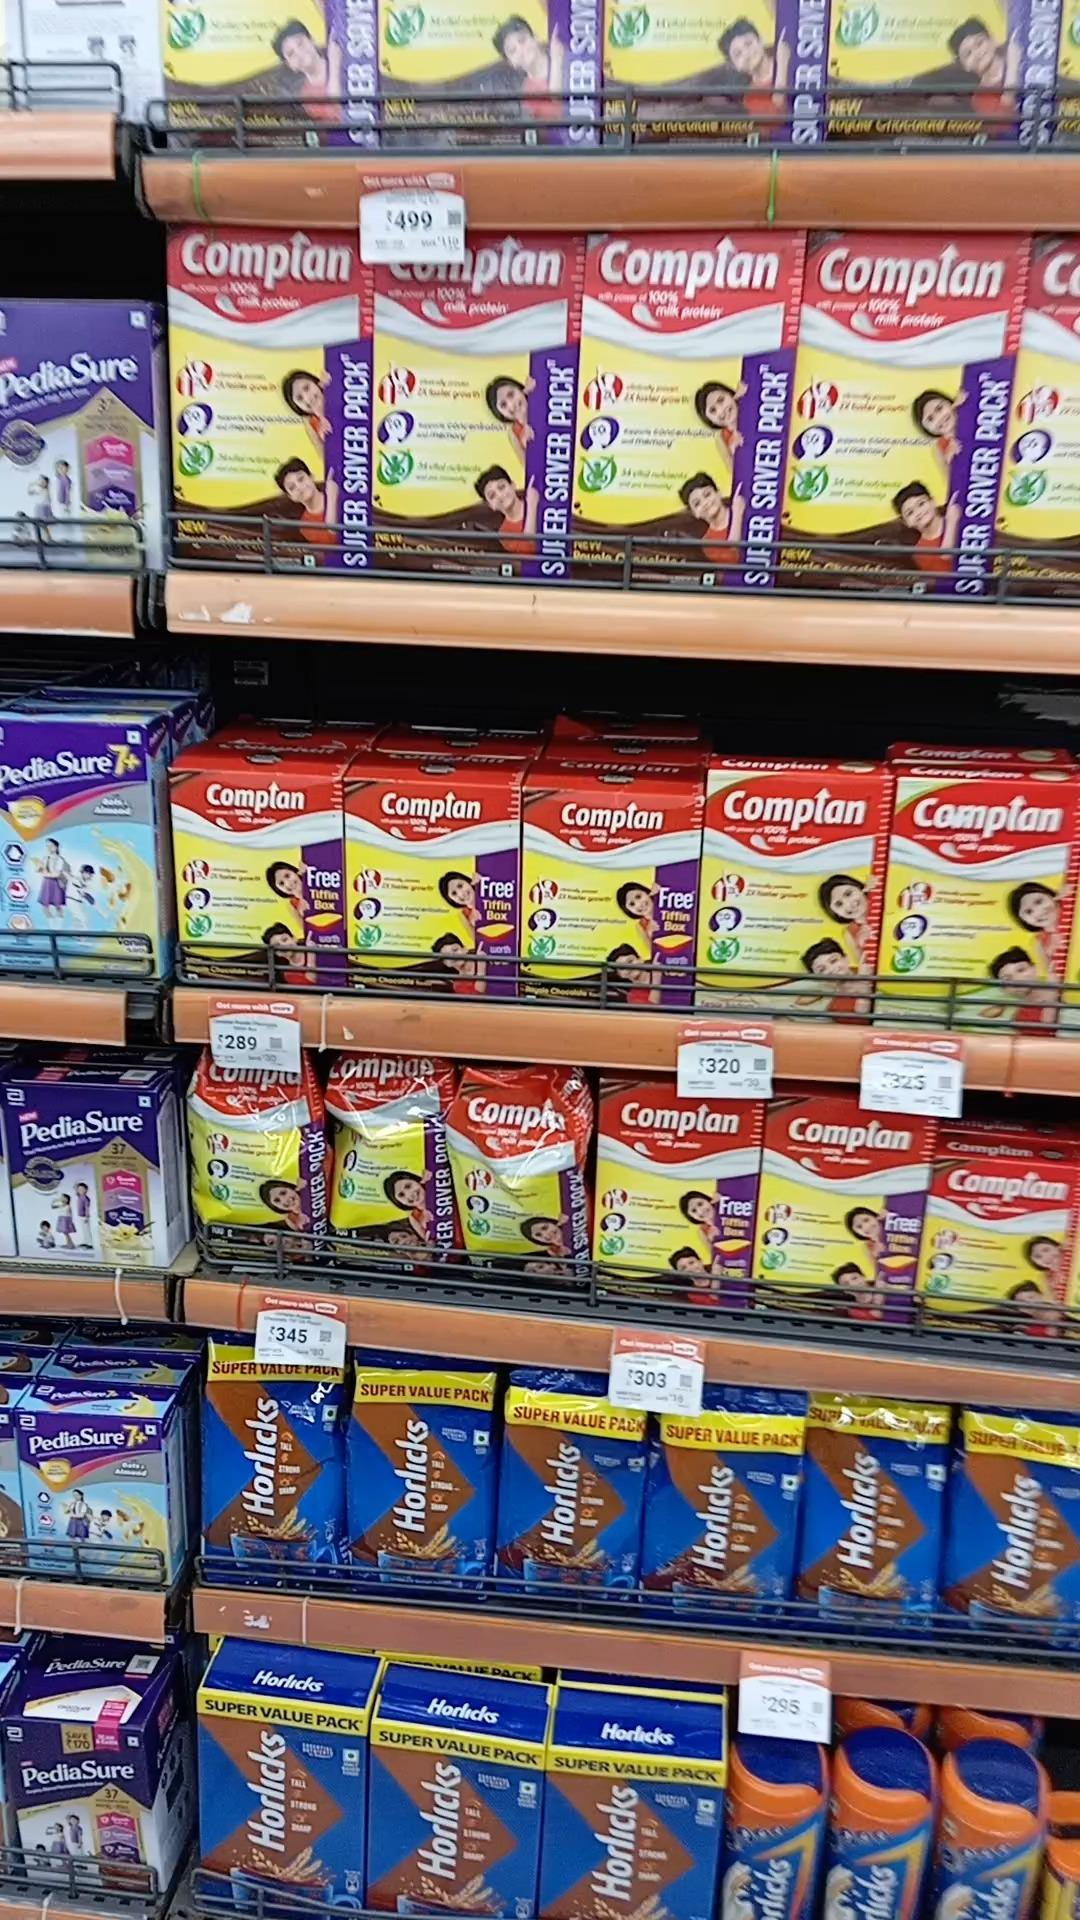COMPLAN_CHOCOLATE_1_KG_PACK: (803, 225, 1014, 604), (583, 229, 778, 592), (167, 227, 368, 575), (377, 222, 571, 578), (595, 1080, 756, 1308), (766, 1089, 915, 1329)
COMPLAN_CHOCOLATE_500_GMS_PACK: (169, 766, 335, 988), (343, 778, 510, 997), (524, 787, 694, 1000), (923, 1159, 1079, 1342)
COMPLAN_KESAR_BADAM_500_GMS_PACK: (703, 769, 884, 1023)
COMPLAN_PISTA_BADAM_500_GMS_PACK: (894, 775, 1080, 1033)
COMPLAN_RC_POUCH_700_GMS_12: (455, 1068, 583, 1292), (332, 1048, 443, 1290), (191, 1056, 311, 1270)
HORLICK_CHOCOLATE_1_KG_PACK: (198, 1693, 367, 1920), (371, 1718, 541, 1920), (547, 1742, 716, 1920)
HORLICK_CHOCOLATE_750_G_POUCH: (655, 1386, 800, 1639), (502, 1369, 642, 1618), (351, 1354, 492, 1598), (806, 1391, 940, 1643), (207, 1344, 342, 1590), (957, 1404, 1080, 1667)
PEDIASURE_CHOCOLATE_500_G_PACK: (11, 1720, 148, 1905)
PEDIASURE_VANILLA_500_G_PACK: (0, 295, 160, 571), (1, 1077, 162, 1261)
